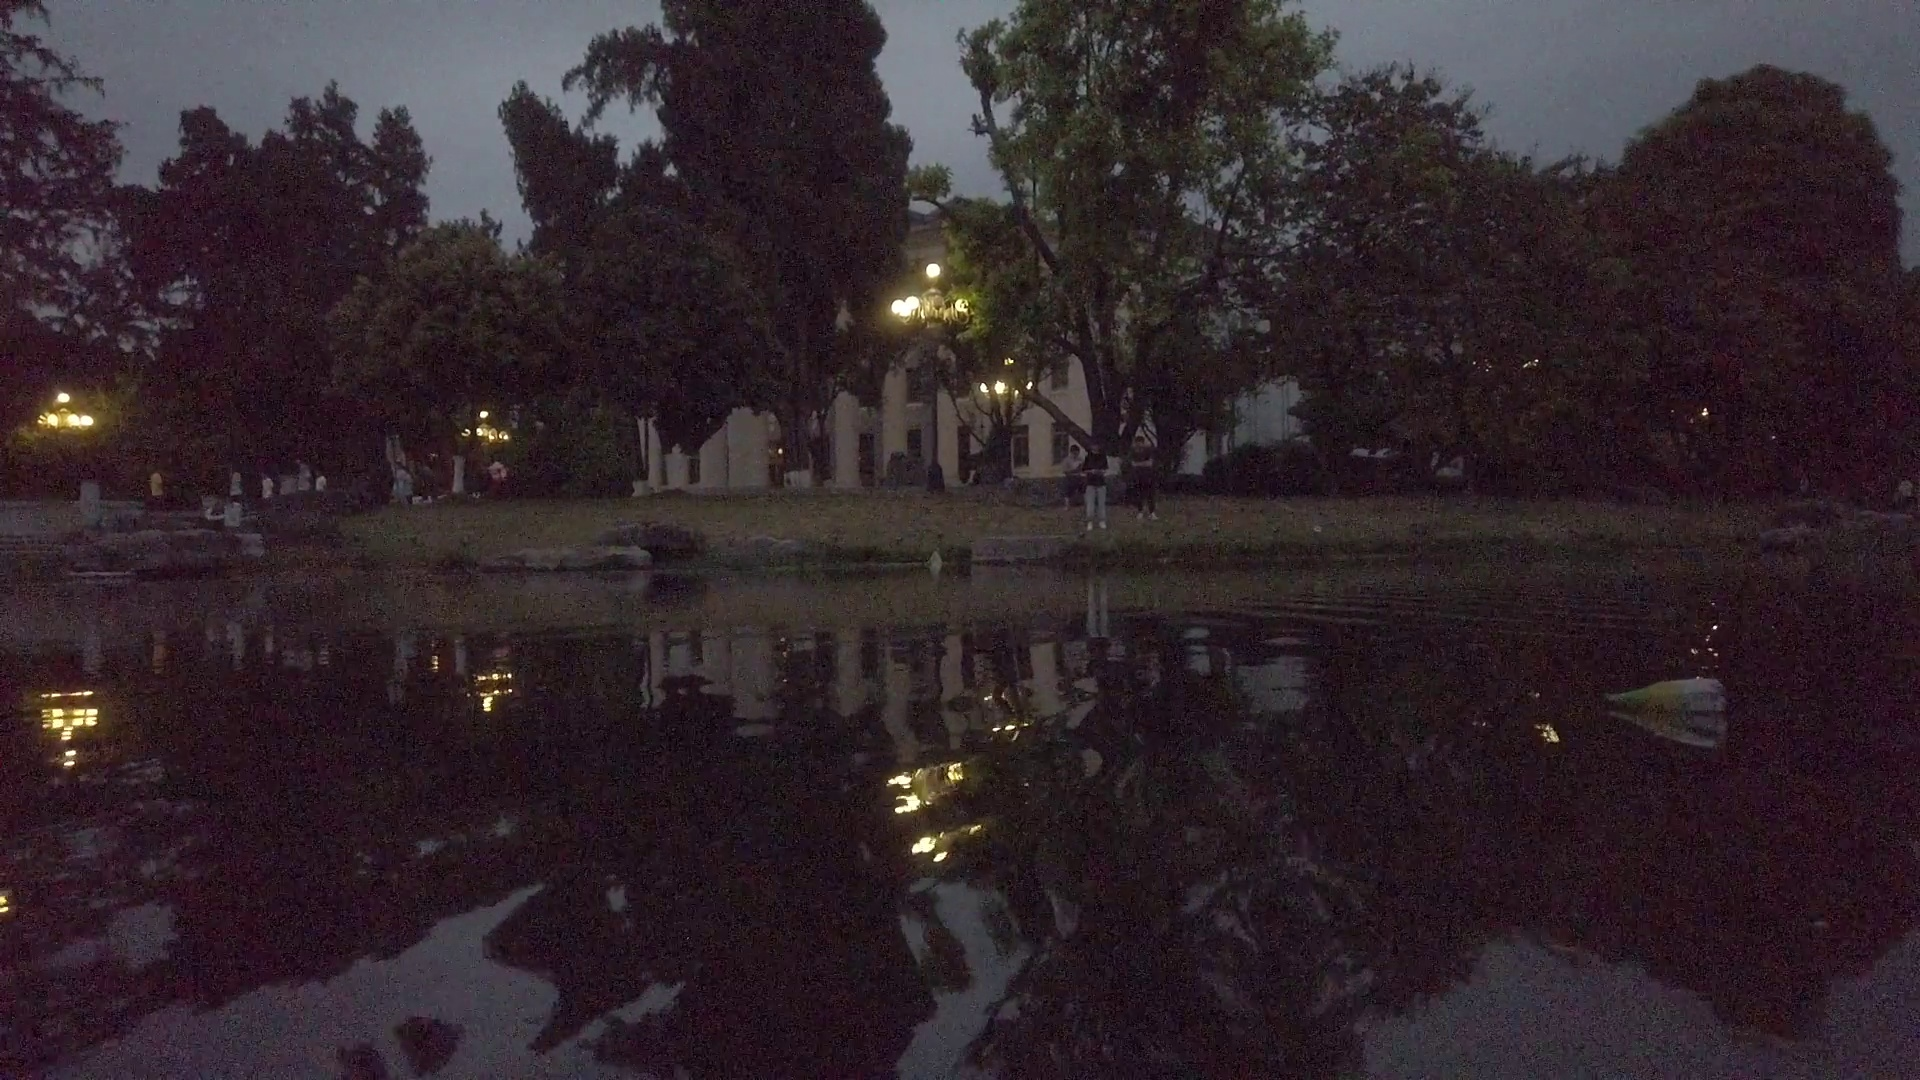bottle: (1601, 678, 1722, 717)
